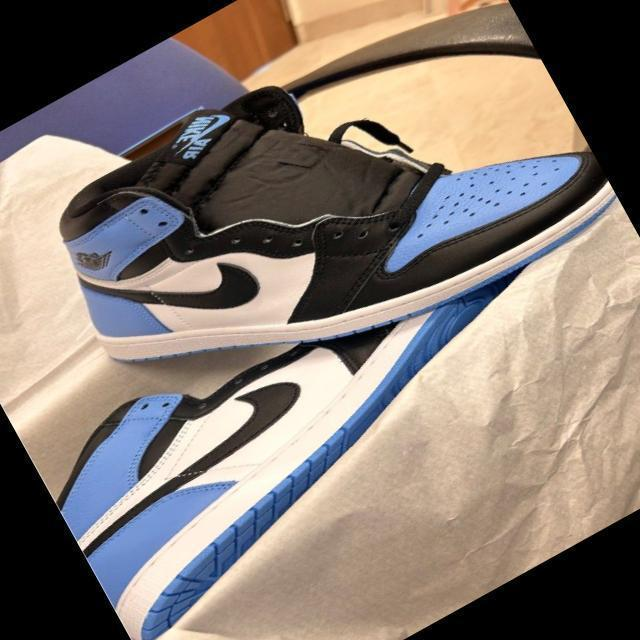nike original jordan 1: (10, 0, 621, 467), (30, 216, 571, 640)
